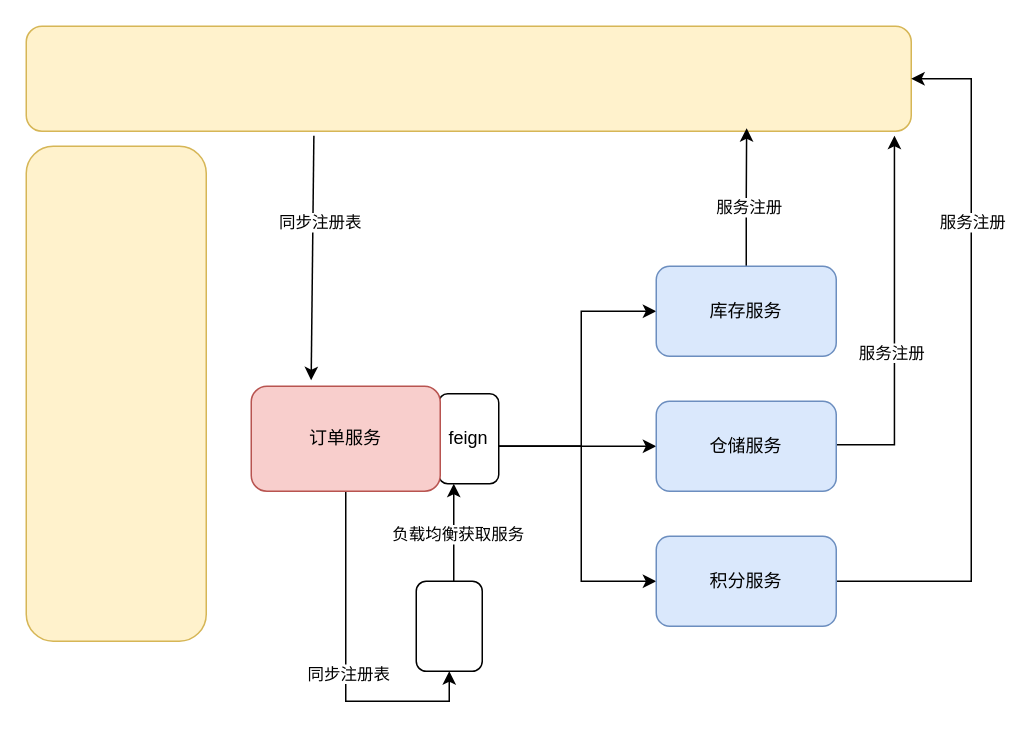
This 1031x740 diagram has some shape labels left out. Here are the shapes that lost their labels. From the top down, the centre of each, then its label:
At [468,78]: "Eureka".
At [115,393]: "gateway".
At [448,625]: "ribbon".
